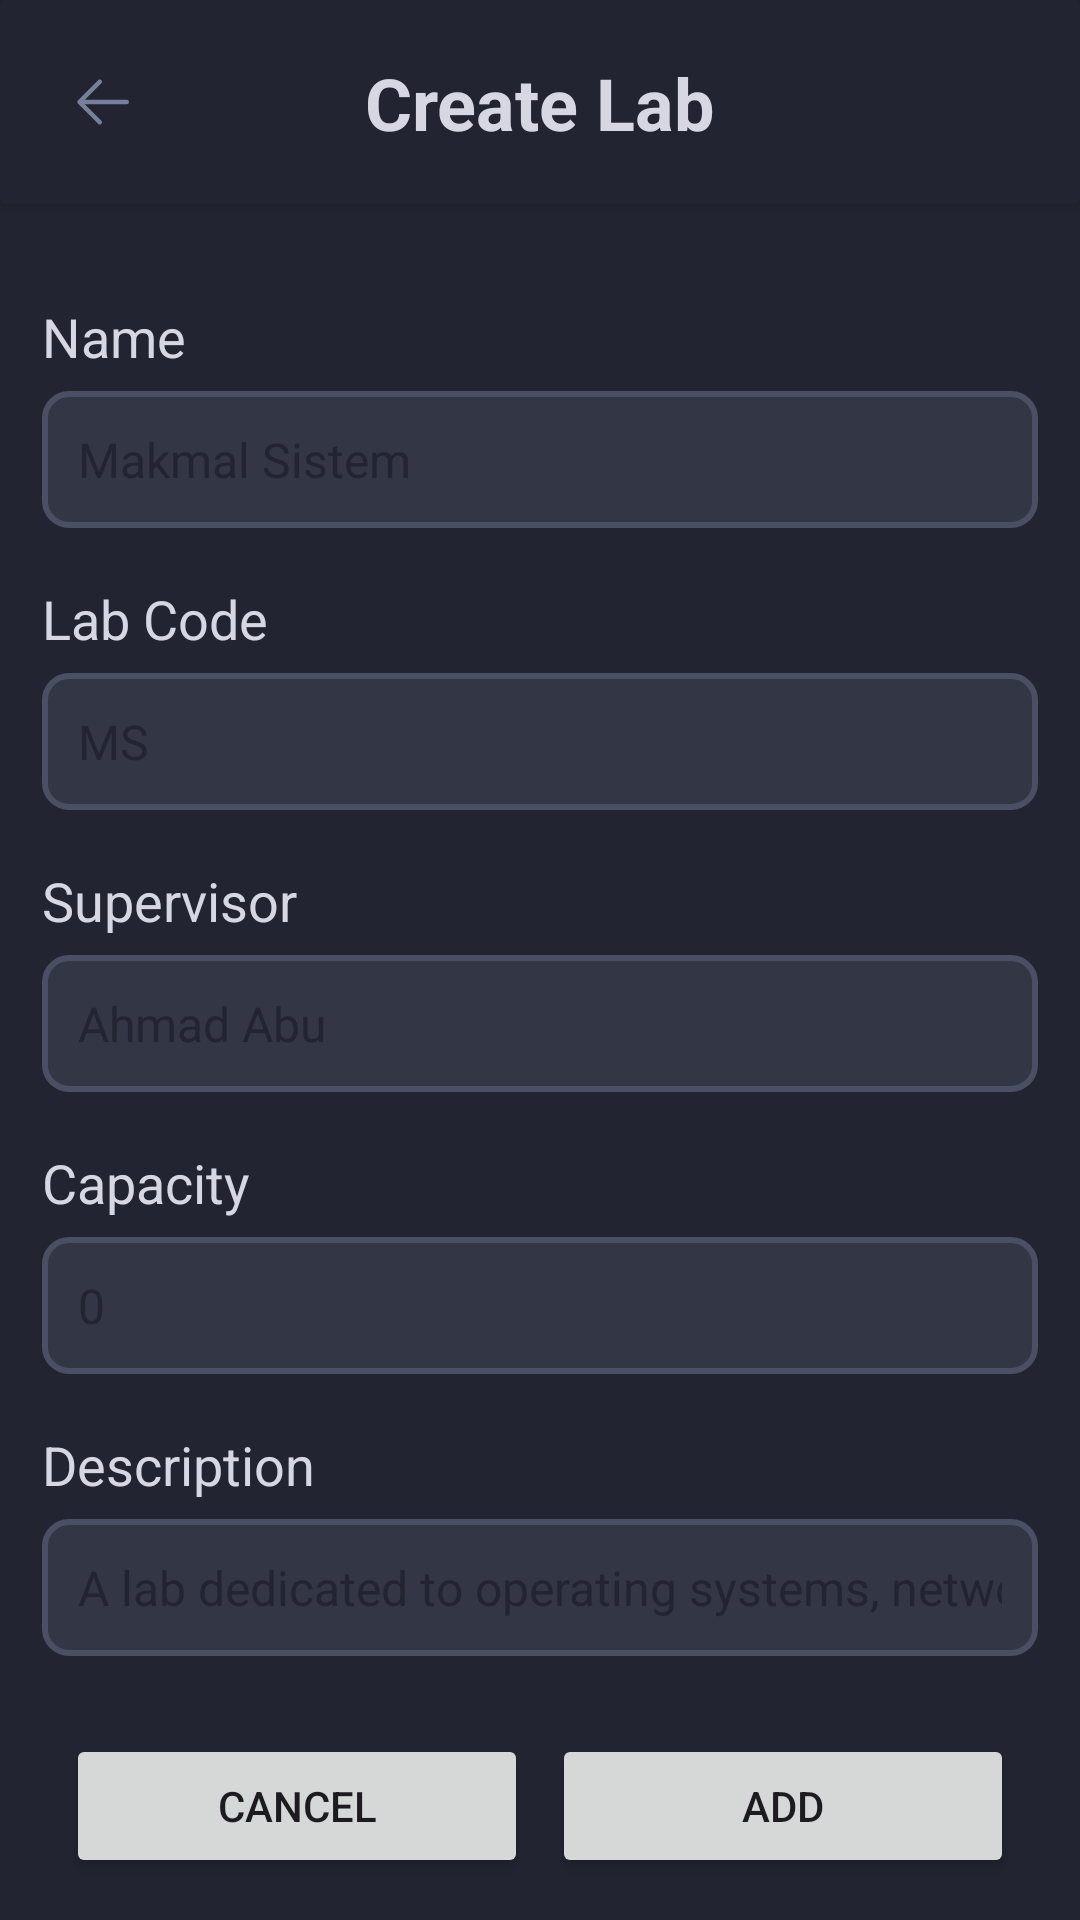

Screen size 1080px×1920px. Icon name, then its box in pixels as bbox=[x1, y1, x2, y2]:
back arrow: bbox=[77, 79, 129, 125]
